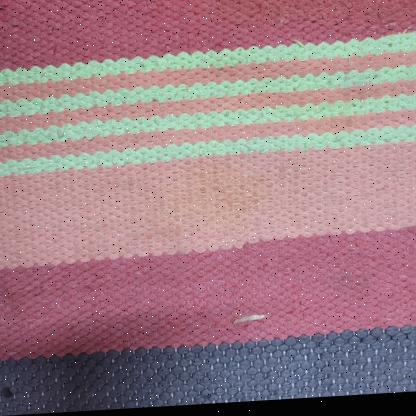spot: (220, 304, 270, 335)
